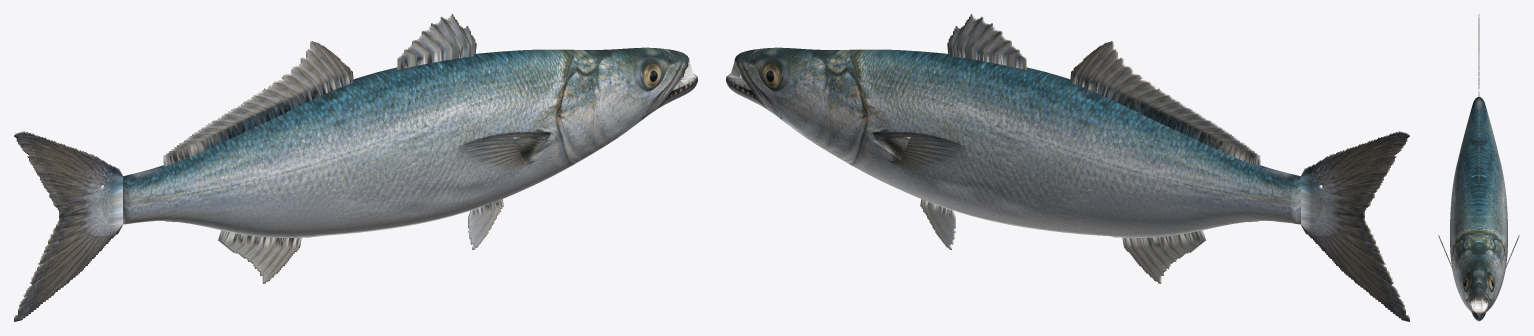
The model's file is elf.glb.
The picture shows the model from 3 angles, left to right: view 1: azimuth 30°, elevation 25°; view 2: azimuth 150°, elevation 25°; view 3: azimuth 270°, elevation 25°; orthographic projection. The views are drawn at different scales.
Visible parts, largest first — view 1: elf_realistic; view 2: elf_realistic; view 3: elf_realistic.
Boxes of the visible parts, <box> form: elf_realistic: <box>14,14,697,321</box>; elf_realistic: <box>726,14,1409,321</box>; elf_realistic: <box>1438,14,1519,321</box>.
Bounding box in the file's own units: 1 × 0.346 × 0.1519.
Materials: 3 (3 with a texture image).
